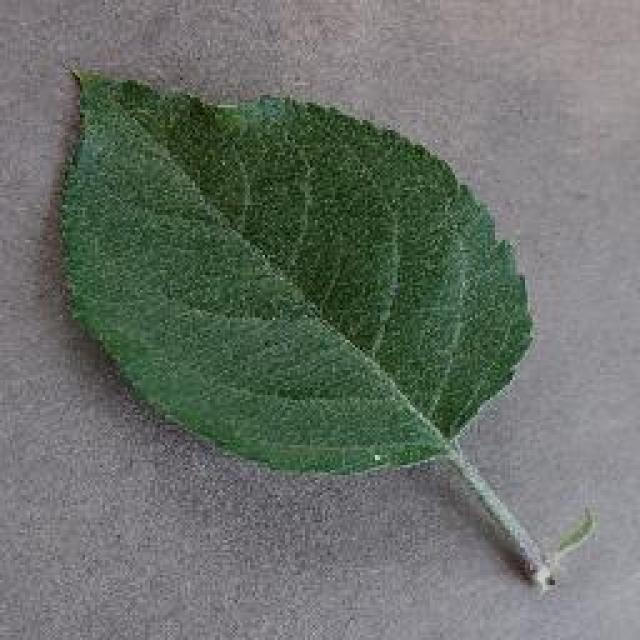apple healthy: (52, 60, 592, 595)
